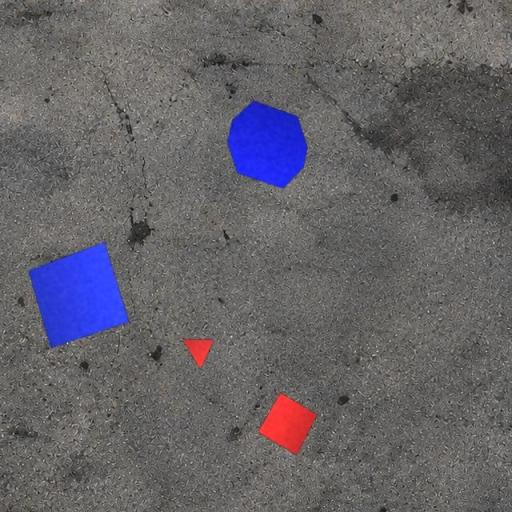BLUE_SQUARE: (27, 242, 130, 348)
RED_SQUARE: (257, 391, 318, 456)
